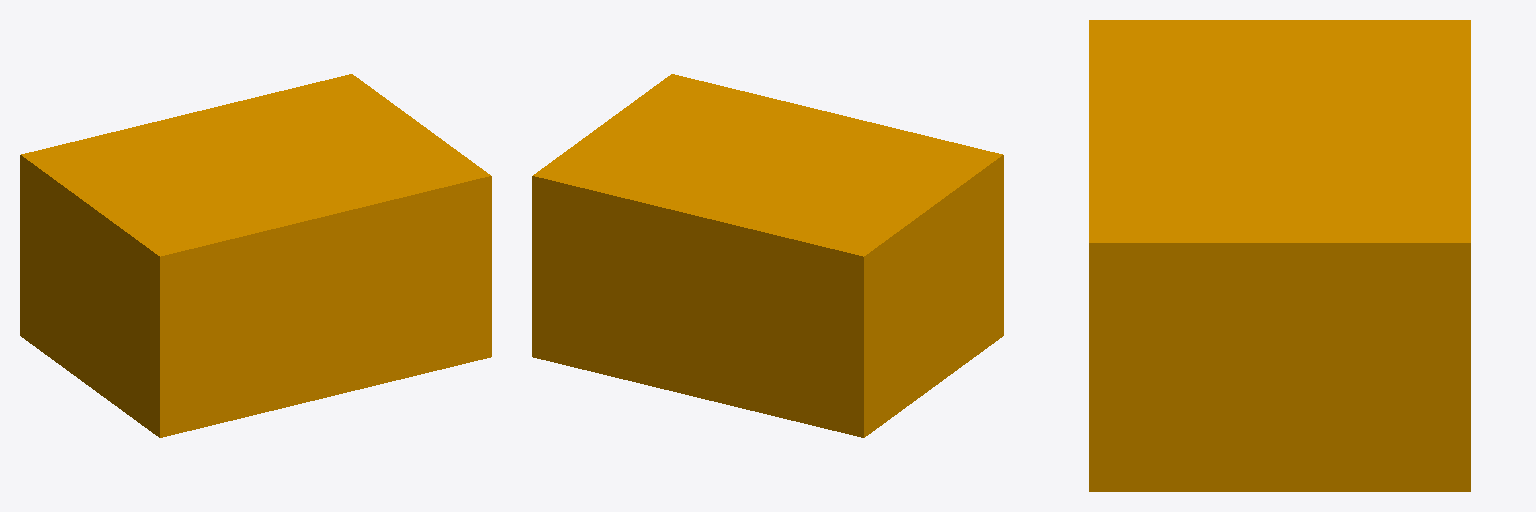
The robot description file, URDF, robot "object":
<?xml version="1.0"?>
<!-- Auto-generated by tools/gen_primitive_objects.py. kind=box dims=(0.094373, 0.068704, 0.049354) -->
<robot name="object">
  <link name="object">
    <visual>
      <origin xyz="0 0 0"/>
      <geometry>
        <box size="0.094373 0.068704 0.049354"/>
      </geometry>
    </visual>
    <collision>
      <origin xyz="0 0 0"/>
      <geometry>
        <box size="0.094373 0.068704 0.049354"/>
      </geometry>
    </collision>
    <inertial>
      <mass value="0.064000"/>
      <inertia ixx="0.00003817" ixy="0.0" ixz="0.0" iyy="0.00006049" iyz="0.0" izz="0.00007268"/>
    </inertial>
  </link>
</robot>

--- Render facts (derived) ---
Views: 3 orthographic renders of the robot side by side, from view 1: azimuth 30°, elevation 25°; view 2: azimuth 150°, elevation 25°; view 3: azimuth 270°, elevation 25°.
Model object with 1 links and 0 joints (none), rooted at object, posed every joint at zero.
Visible links, largest first — view 1: object; view 2: object; view 3: object.
Link boxes in pixels (bbox=[...]): object: bbox=[20, 74, 491, 437]; object: bbox=[532, 74, 1003, 437]; object: bbox=[1089, 20, 1470, 491].
Bounding box of the posed robot: 0.0944 × 0.0687 × 0.0494 m (x, y, z).
Geometry: primitives only (box / cylinder / sphere), no mesh files.
